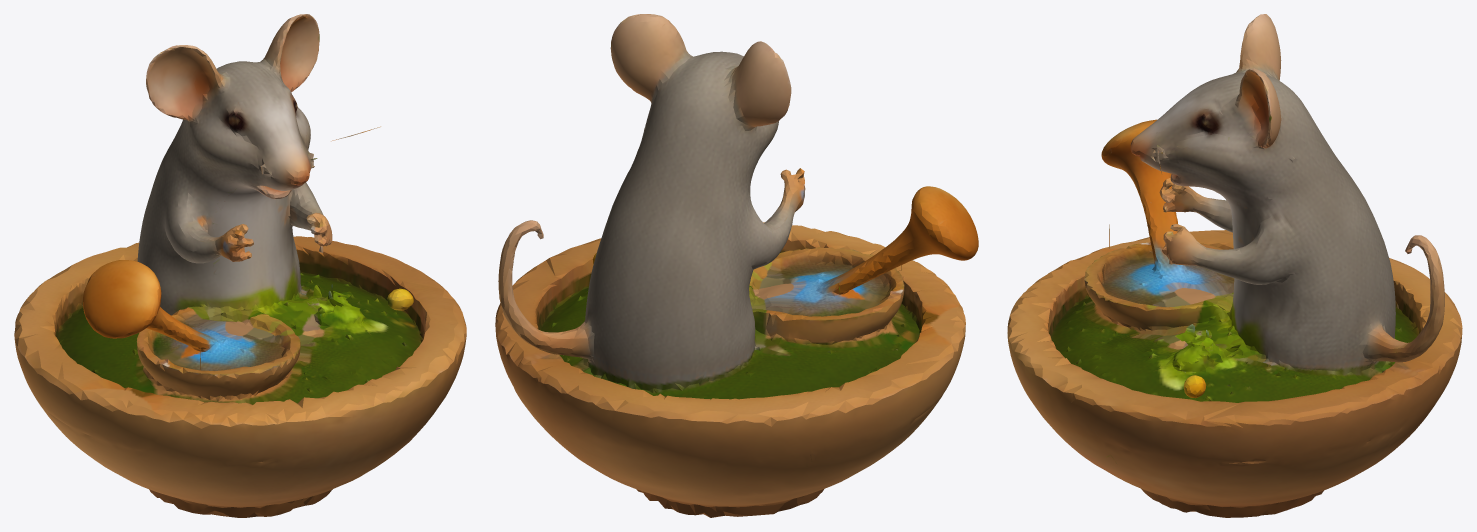
3 views of the same model, side by side, from view 1: azimuth 30°, elevation 25°; view 2: azimuth 150°, elevation 25°; view 3: azimuth 270°, elevation 25° (orthographic). The views are drawn at different scales.
Parts seen in each view (by area): view 1: 010; view 2: 010; view 3: 010.
Part boxes in pixels (x1=…): 010: x1=14, y1=14, x2=466, y2=517; 010: x1=495, y1=14, x2=978, y2=517; 010: x1=1007, y1=14, x2=1462, y2=517.
Size of the model in its own units: 1.79 by 1.9 by 1.78.
Materials: 1 (1 with a texture image).
